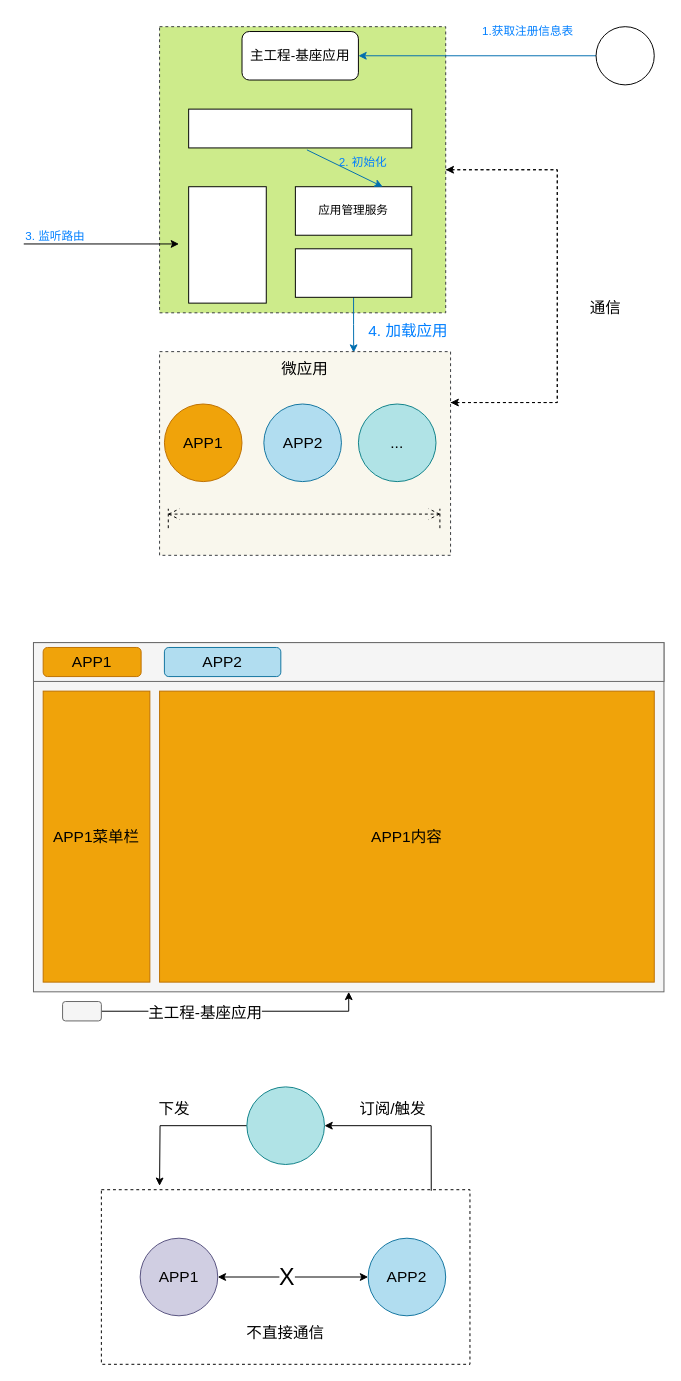
This 681x1381 diagram has some shape labels left out. The centre of each missing label's shape, as x and y in pixels:
主工程逻辑: [300,128]
基座应用: [285,1125]
应用加载器: [353,272]
注册信息: [624,55]
消息+隔离+通信: [303,518]
路由分发: [227,244]
